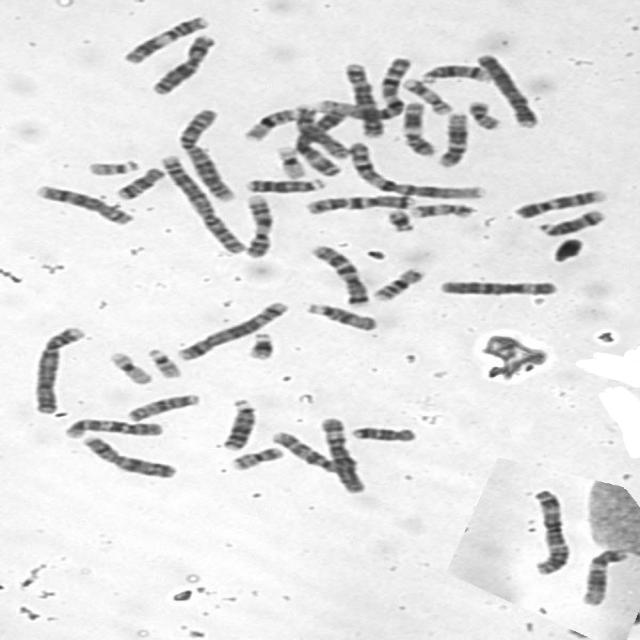A1: (341, 137, 491, 201), (312, 54, 414, 122)
A2: (154, 150, 248, 256), (173, 104, 239, 203)
A3: (289, 101, 349, 178), (527, 484, 573, 576)
B4: (472, 49, 543, 130), (27, 321, 88, 415)
B5: (172, 296, 292, 362), (338, 58, 386, 138)
C10: (267, 427, 350, 475), (59, 414, 168, 440)
C11: (118, 11, 215, 65), (398, 98, 438, 157)
C12: (576, 545, 631, 606), (431, 108, 471, 168)
C6: (316, 413, 368, 495), (433, 275, 563, 298)
C7: (304, 241, 371, 307), (300, 190, 420, 216)
C8: (30, 181, 136, 226), (291, 101, 352, 161)
C9: (510, 184, 611, 220), (239, 190, 277, 259)
D13: (217, 394, 259, 452), (241, 173, 329, 194)
D14: (534, 206, 609, 237), (416, 60, 494, 84)
D15: (122, 390, 204, 422), (302, 299, 381, 332)
E16: (239, 104, 302, 142), (367, 264, 428, 302)
E17: (398, 74, 455, 115), (405, 200, 477, 220)
E18: (111, 163, 167, 200), (347, 422, 420, 443)
F19: (104, 348, 156, 386), (271, 142, 308, 179)
F20: (226, 442, 286, 472), (463, 96, 504, 130)
G21: (244, 327, 278, 361), (382, 205, 418, 233)
G22: (143, 345, 186, 379), (81, 155, 143, 177)
X: (76, 432, 180, 480), (146, 31, 221, 96)
Y: (546, 234, 587, 263)
